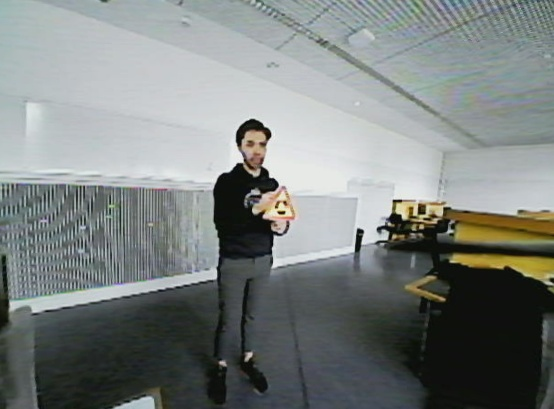roundabout_warning: (259, 182, 300, 224)
